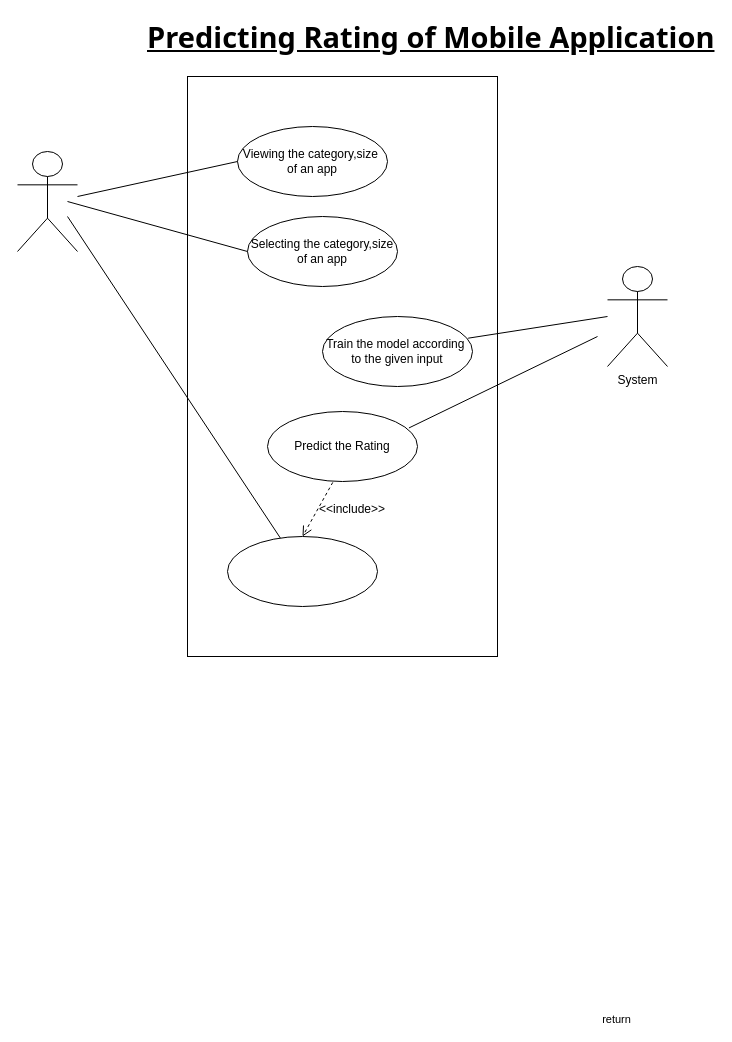
The diagram is 732 pixels wide and 1042 high, and some of its shapes have lost their labels. The centre of each missing label's shape, as x and y in pixels:
User: point 47,201
View the predicted Rating: point 302,571
